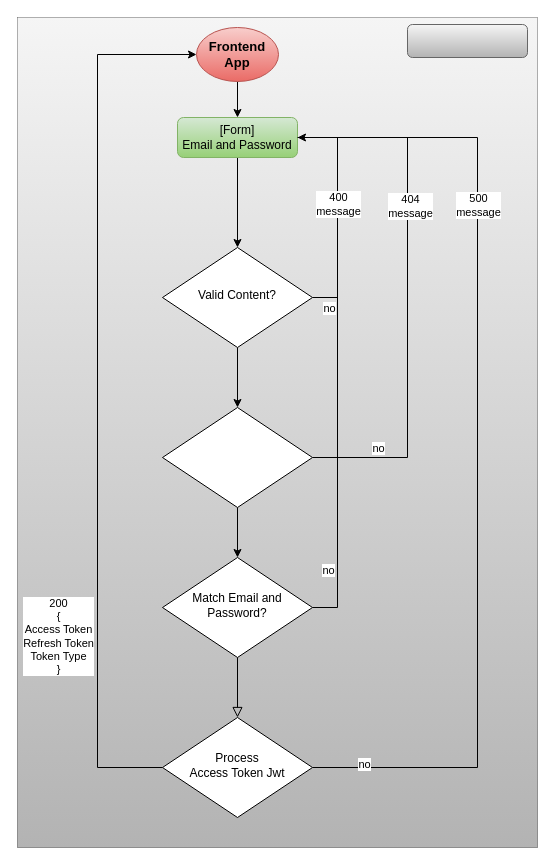
Image size: 555x865. Some labels were removed from this diagram. The centre of each missing label's shape, as x and y in pixels:
/token: point 467,41
Match email in database: point 237,457
